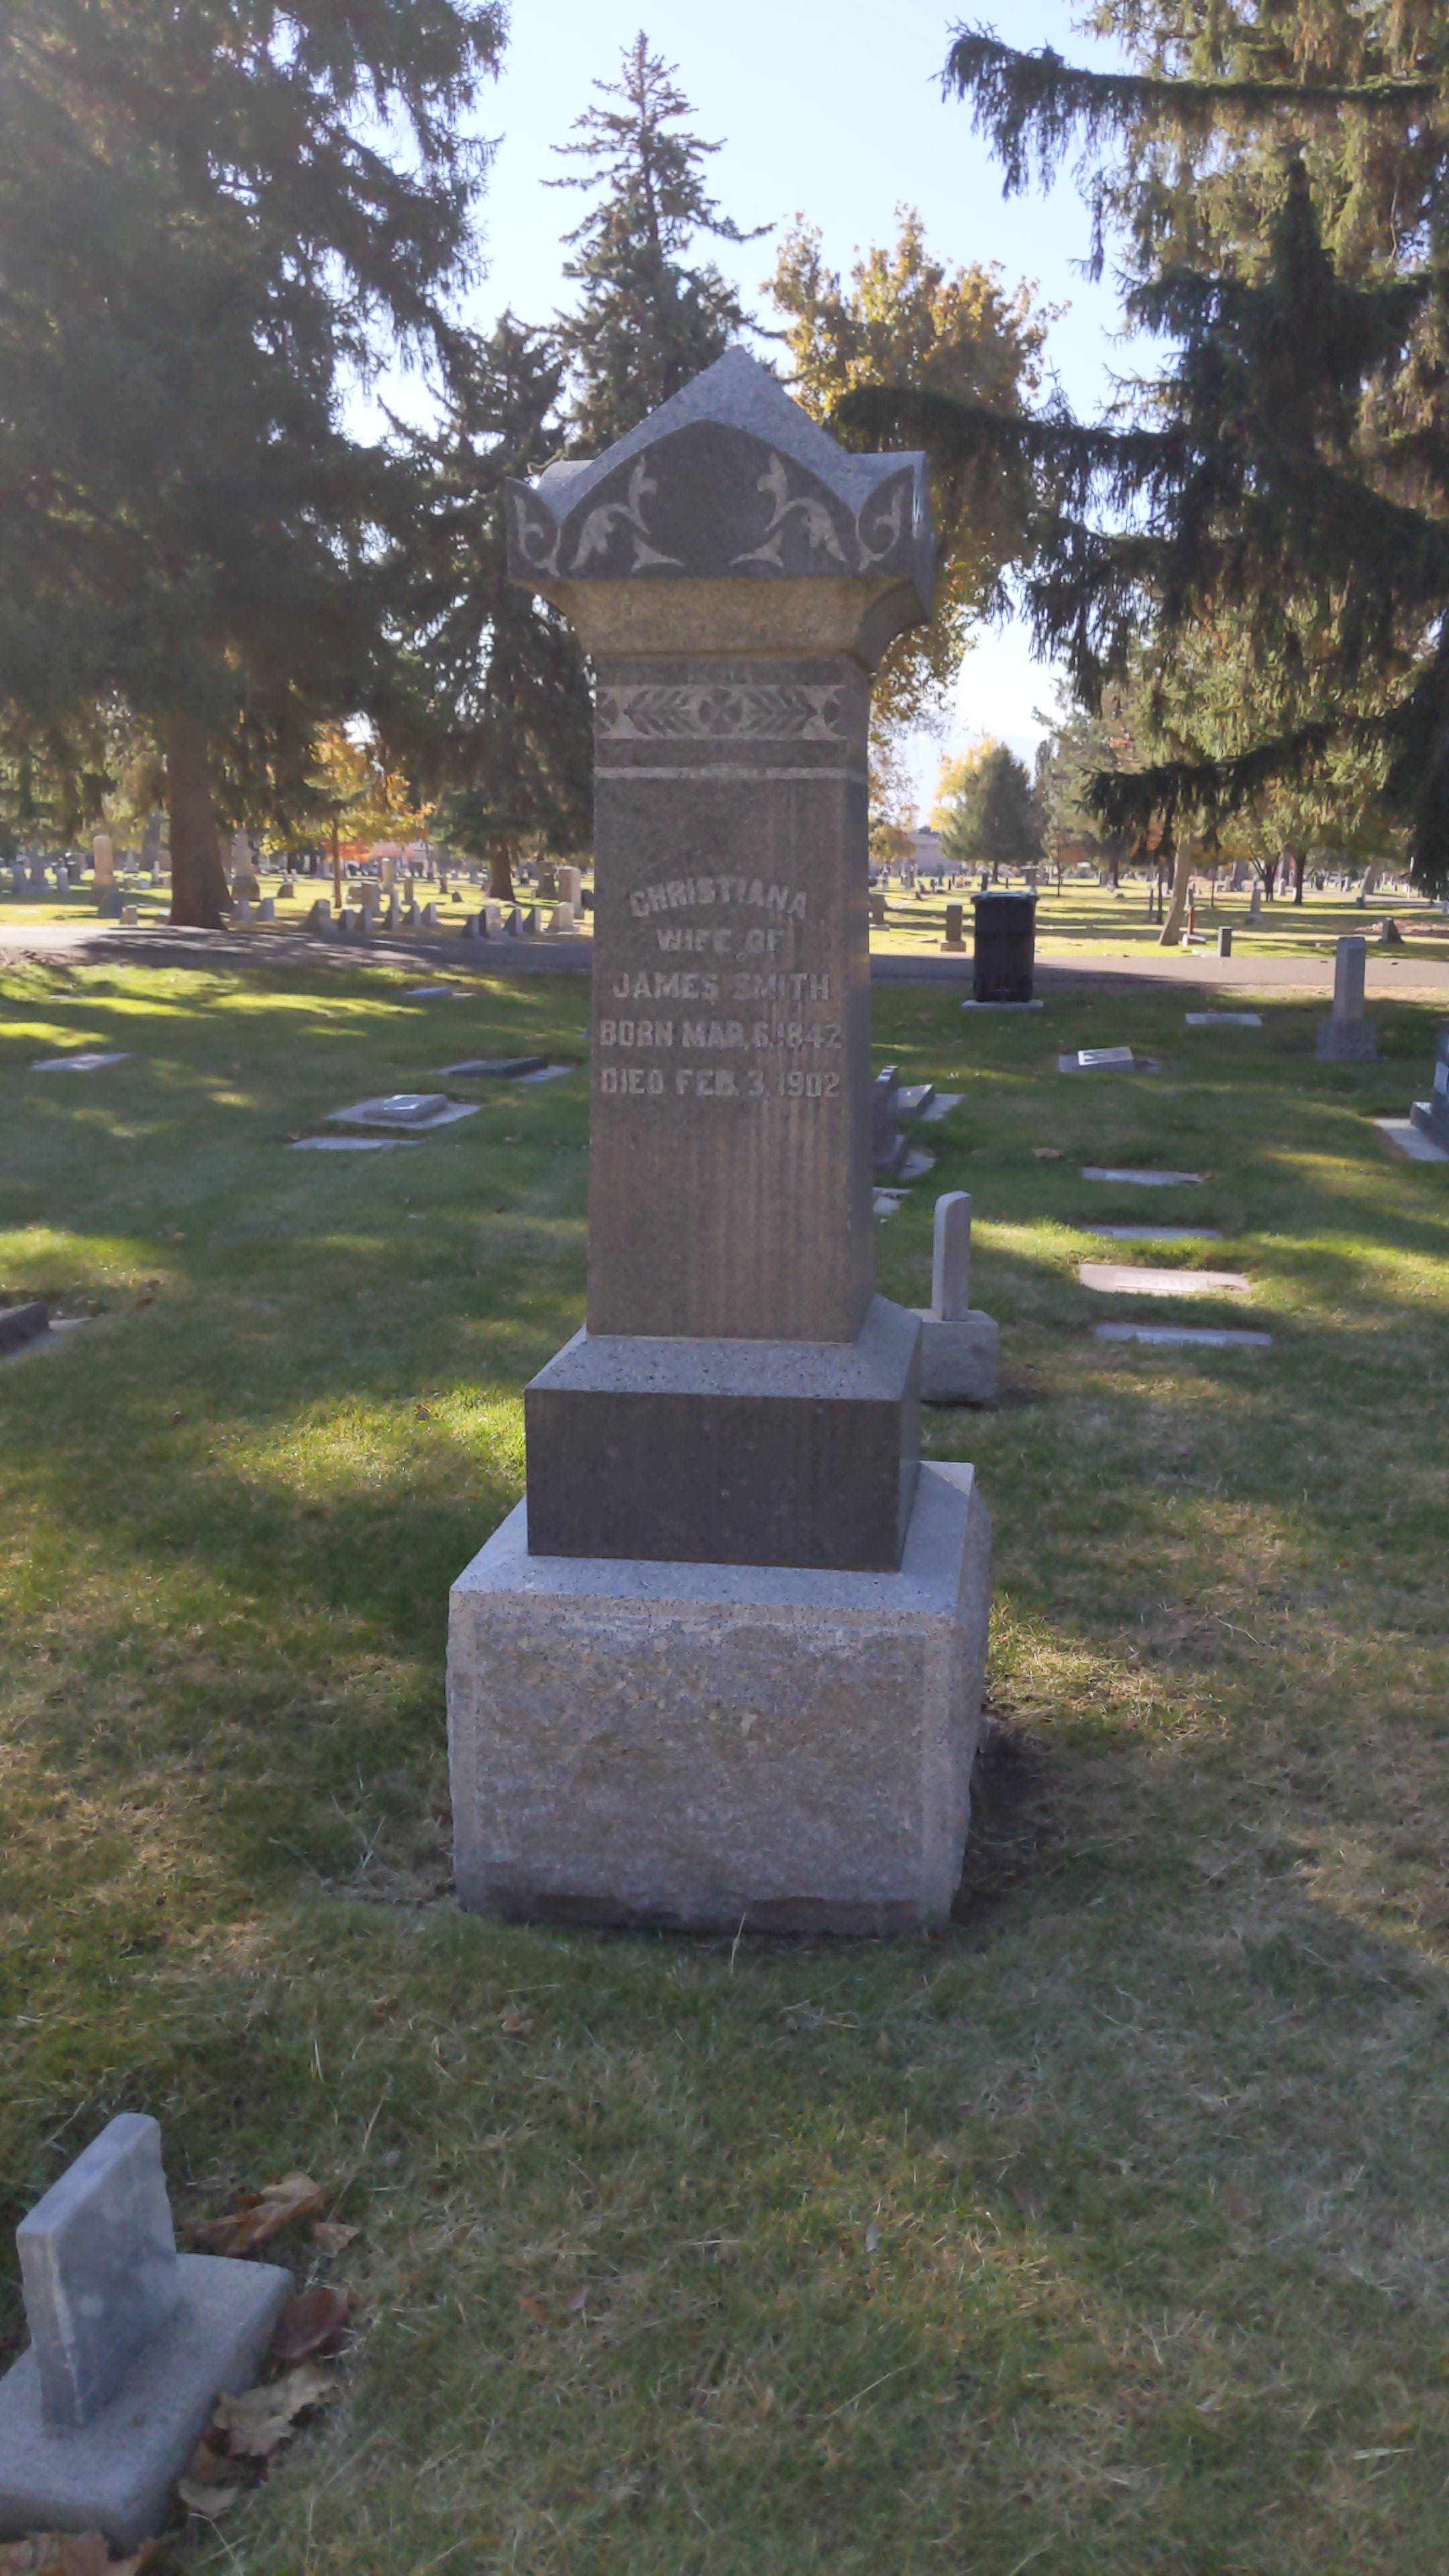obelisk: (538, 320, 924, 1564)
